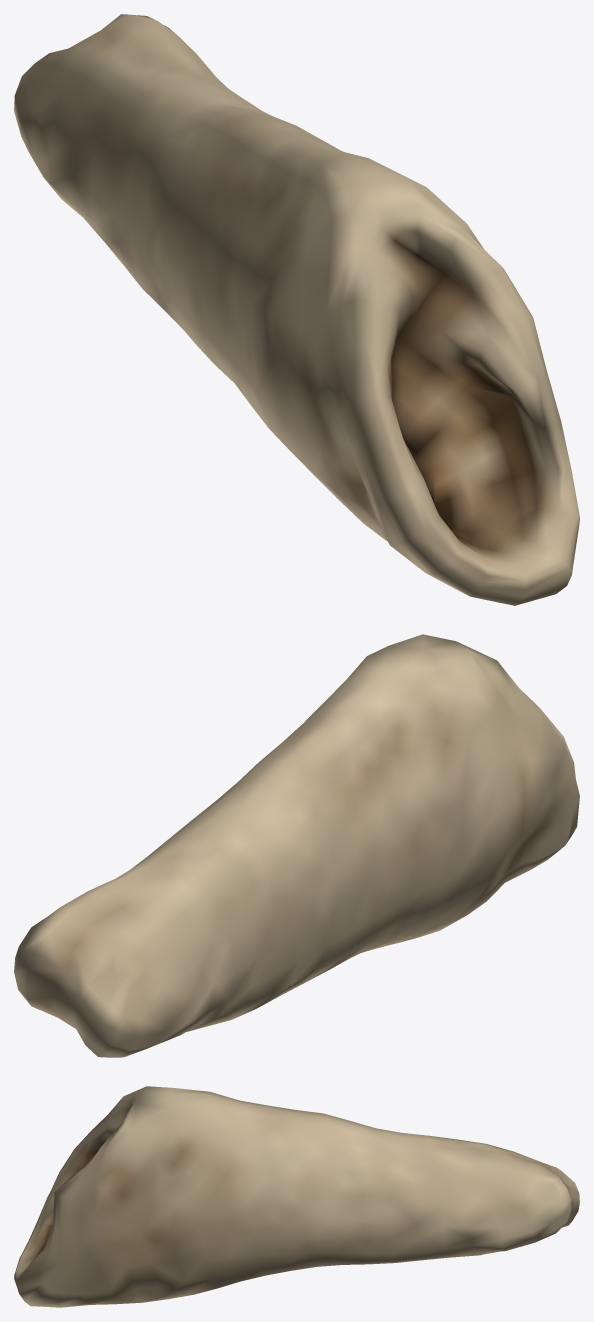
File: Lower_Incisor3.glb
3 renders of one model, top to bottom at view 1: azimuth 30°, elevation 25°; view 2: azimuth 150°, elevation 25°; view 3: azimuth 270°, elevation 25°, orthographic. The views are drawn at different scales.
Parts seen in each view (by area): view 1: Lower_Incisor3.glb; view 2: Lower_Incisor3.glb; view 3: Lower_Incisor3.glb.
Boxes of the visible parts, bbox=[...] form: Lower_Incisor3.glb: bbox=[14, 14, 579, 605]; Lower_Incisor3.glb: bbox=[14, 634, 579, 1057]; Lower_Incisor3.glb: bbox=[14, 1086, 579, 1307].
Size of the model in its own units: 0.0105 by 0.0145 by 0.0371.
1 material, 1 textured.
